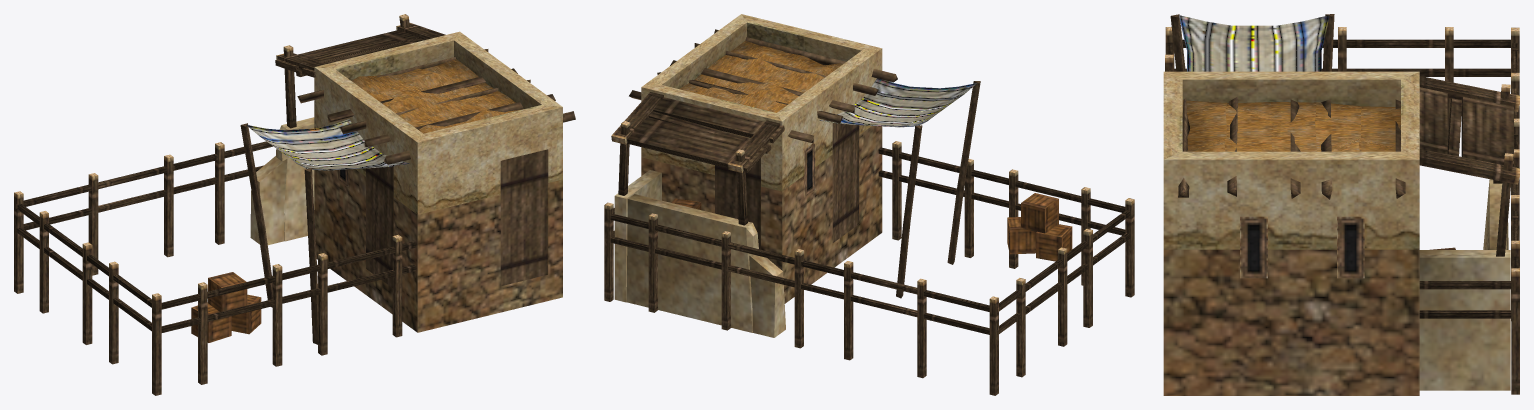
Rendered from pers_corral.glb.
The picture shows the model from 3 angles, left to right: view 1: azimuth 30°, elevation 25°; view 2: azimuth 150°, elevation 25°; view 3: azimuth 270°, elevation 25°; orthographic projection. The views are drawn at different scales.
Visible parts, largest first — view 1: pers_corral_part0; view 2: pers_corral_part0; view 3: pers_corral_part0.
Part boxes in pixels (<box>): pers_corral_part0: <box>14,14,575,395</box>; pers_corral_part0: <box>604,14,1134,395</box>; pers_corral_part0: <box>1163,14,1519,395</box>.
Bounding box in the file's own units: 3.6 × 1.54 × 2.11.
Materials: 1 (1 with a texture image).
